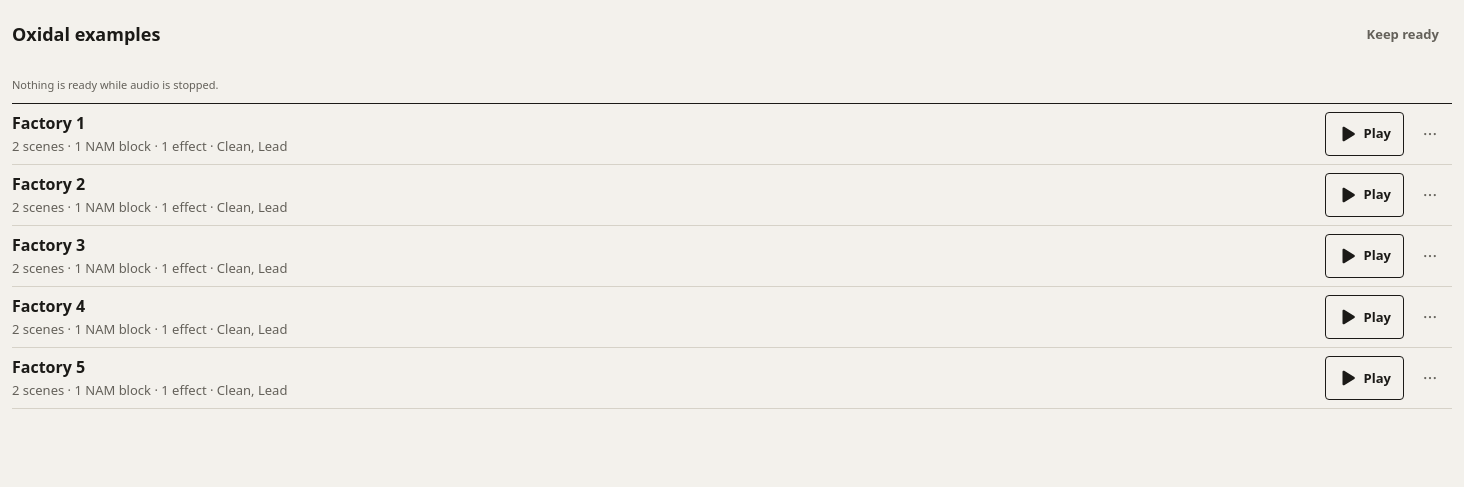
offers a bounded custom gapless bank for factory rigs
expect the text "Factory 1" is shown: met, box [12,112,85,134]
Click the button "Keep ready".
click(1403, 34)  # box [1354,12,1452,56]
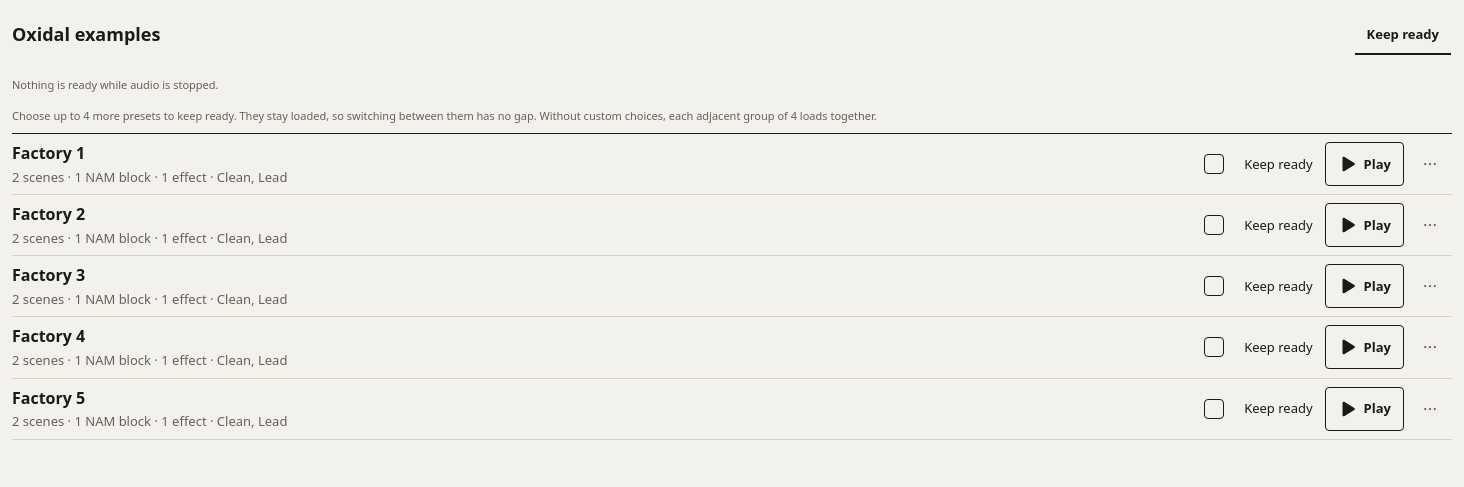
expect the text "Choose up to 4 more presets to keep ready" is shown: met, box [12,108,877,123]
Click the checkbox labelled "Keep ready" in the row of "Factory 1".
click(1214, 164)  # box [1204,154,1224,174]
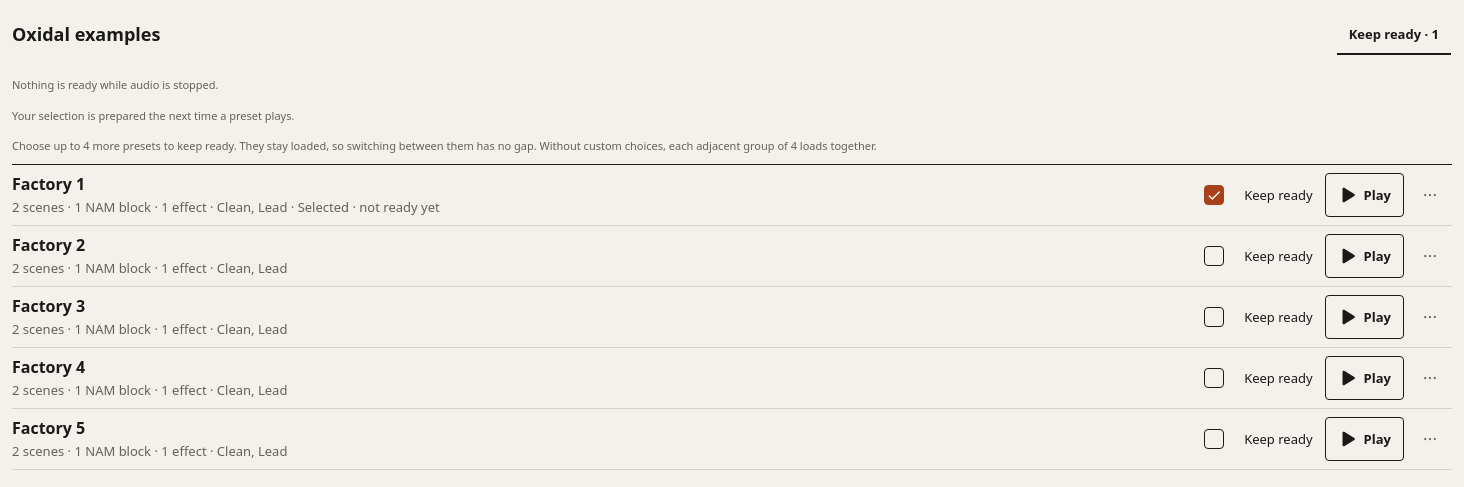
Click the checkbox labelled "Keep ready" in the row of "Factory 2".
click(1214, 256)  # box [1204,246,1224,266]
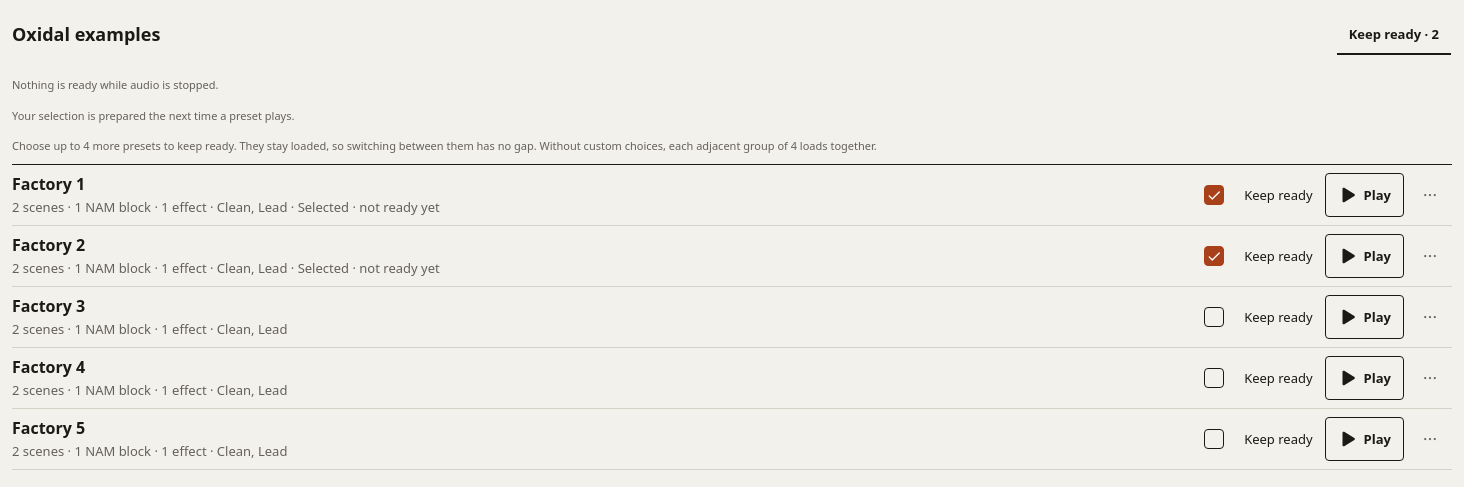
Click the checkbox labelled "Keep ready" in the row of "Factory 3".
click(1214, 317)  # box [1204,307,1224,327]
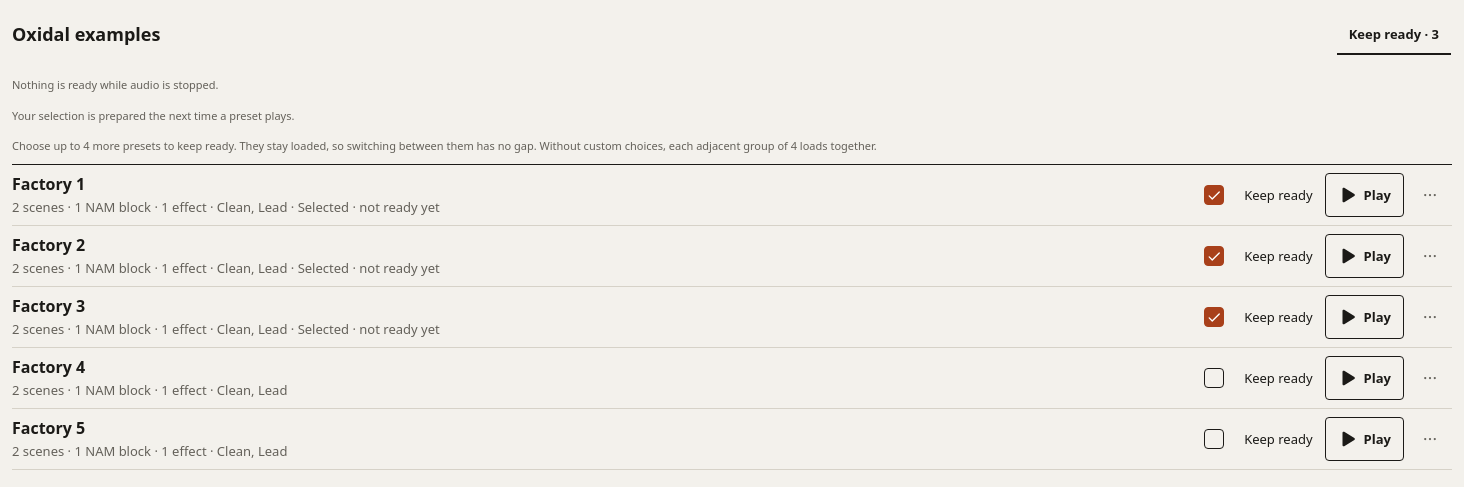
Click the checkbox labelled "Keep ready" in the row of "Factory 4".
click(1214, 378)  # box [1204,368,1224,388]
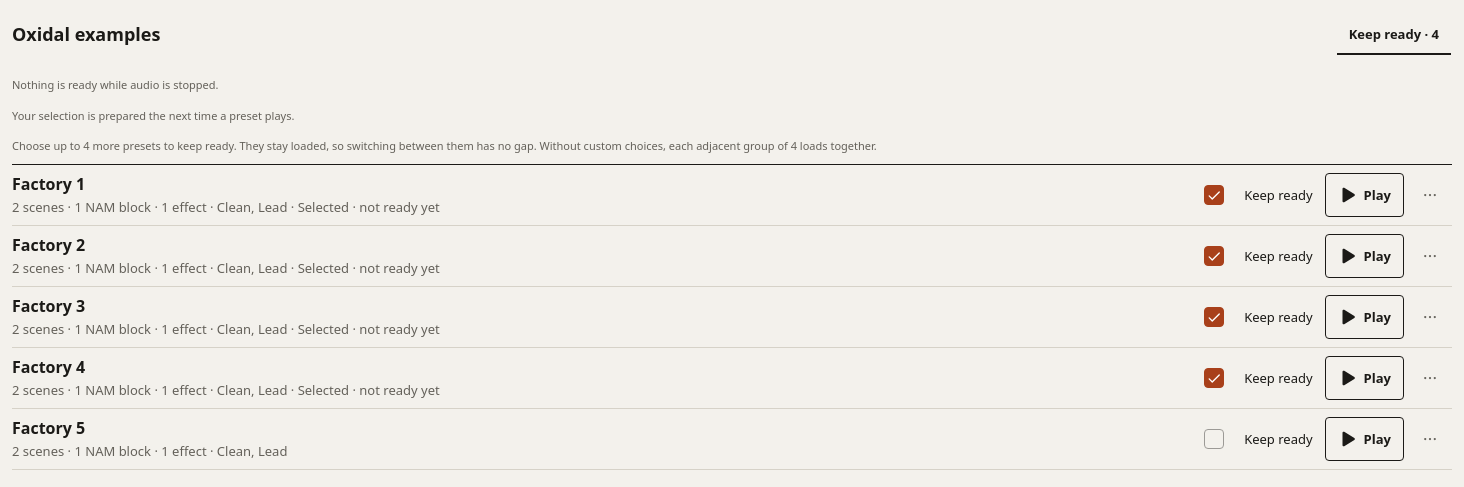
expect the checkbox named "Keep Factory 5 ready" is disabled: met, box [1204,429,1224,449]
